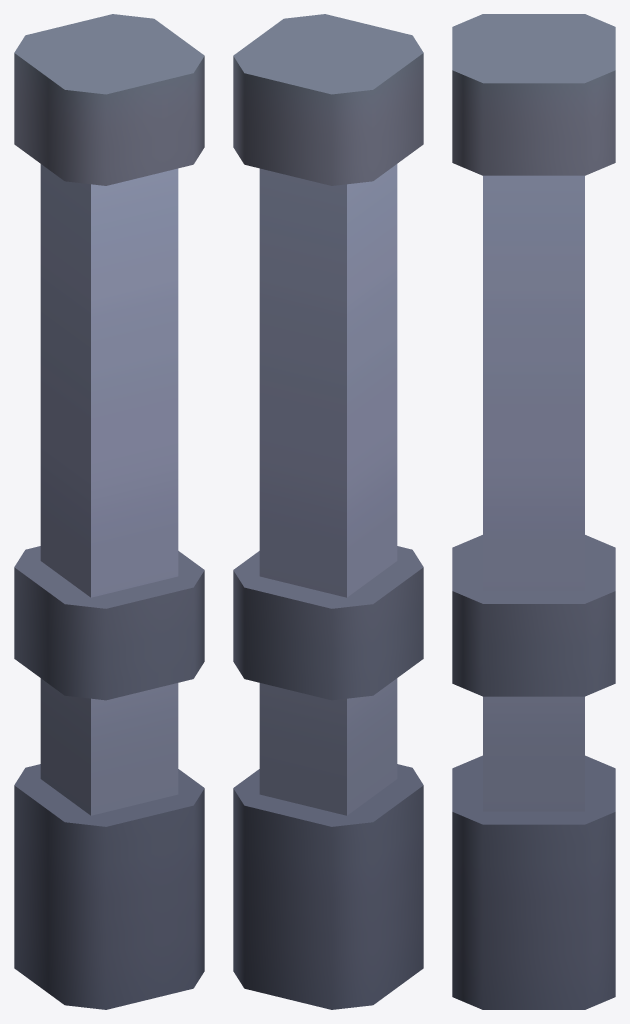
The model's file is pillar-stone.glb.
3 renders of one model, left to right at view 1: azimuth 30°, elevation 25°; view 2: azimuth 150°, elevation 25°; view 3: azimuth 270°, elevation 25°, orthographic.
Visible parts, largest first — view 1: pillar-stone; view 2: pillar-stone; view 3: pillar-stone.
Boxes of the visible parts, left/top/right/bottom form: pillar-stone: left=14, top=14, right=204, bottom=1009; pillar-stone: left=233, top=14, right=423, bottom=1009; pillar-stone: left=452, top=14, right=615, bottom=1009.
Bounding box in the file's own units: 0.16 × 1 × 0.16.
Materials: 1 (1 with a texture image).
